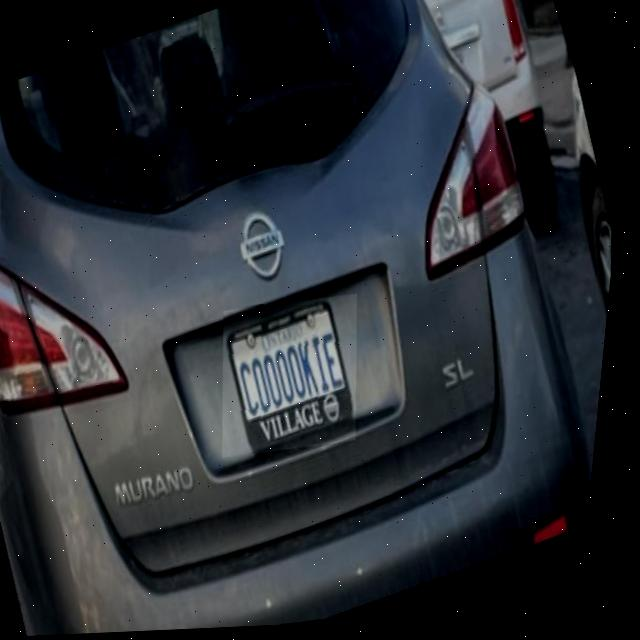LicensePlate: (230, 300, 364, 457)
